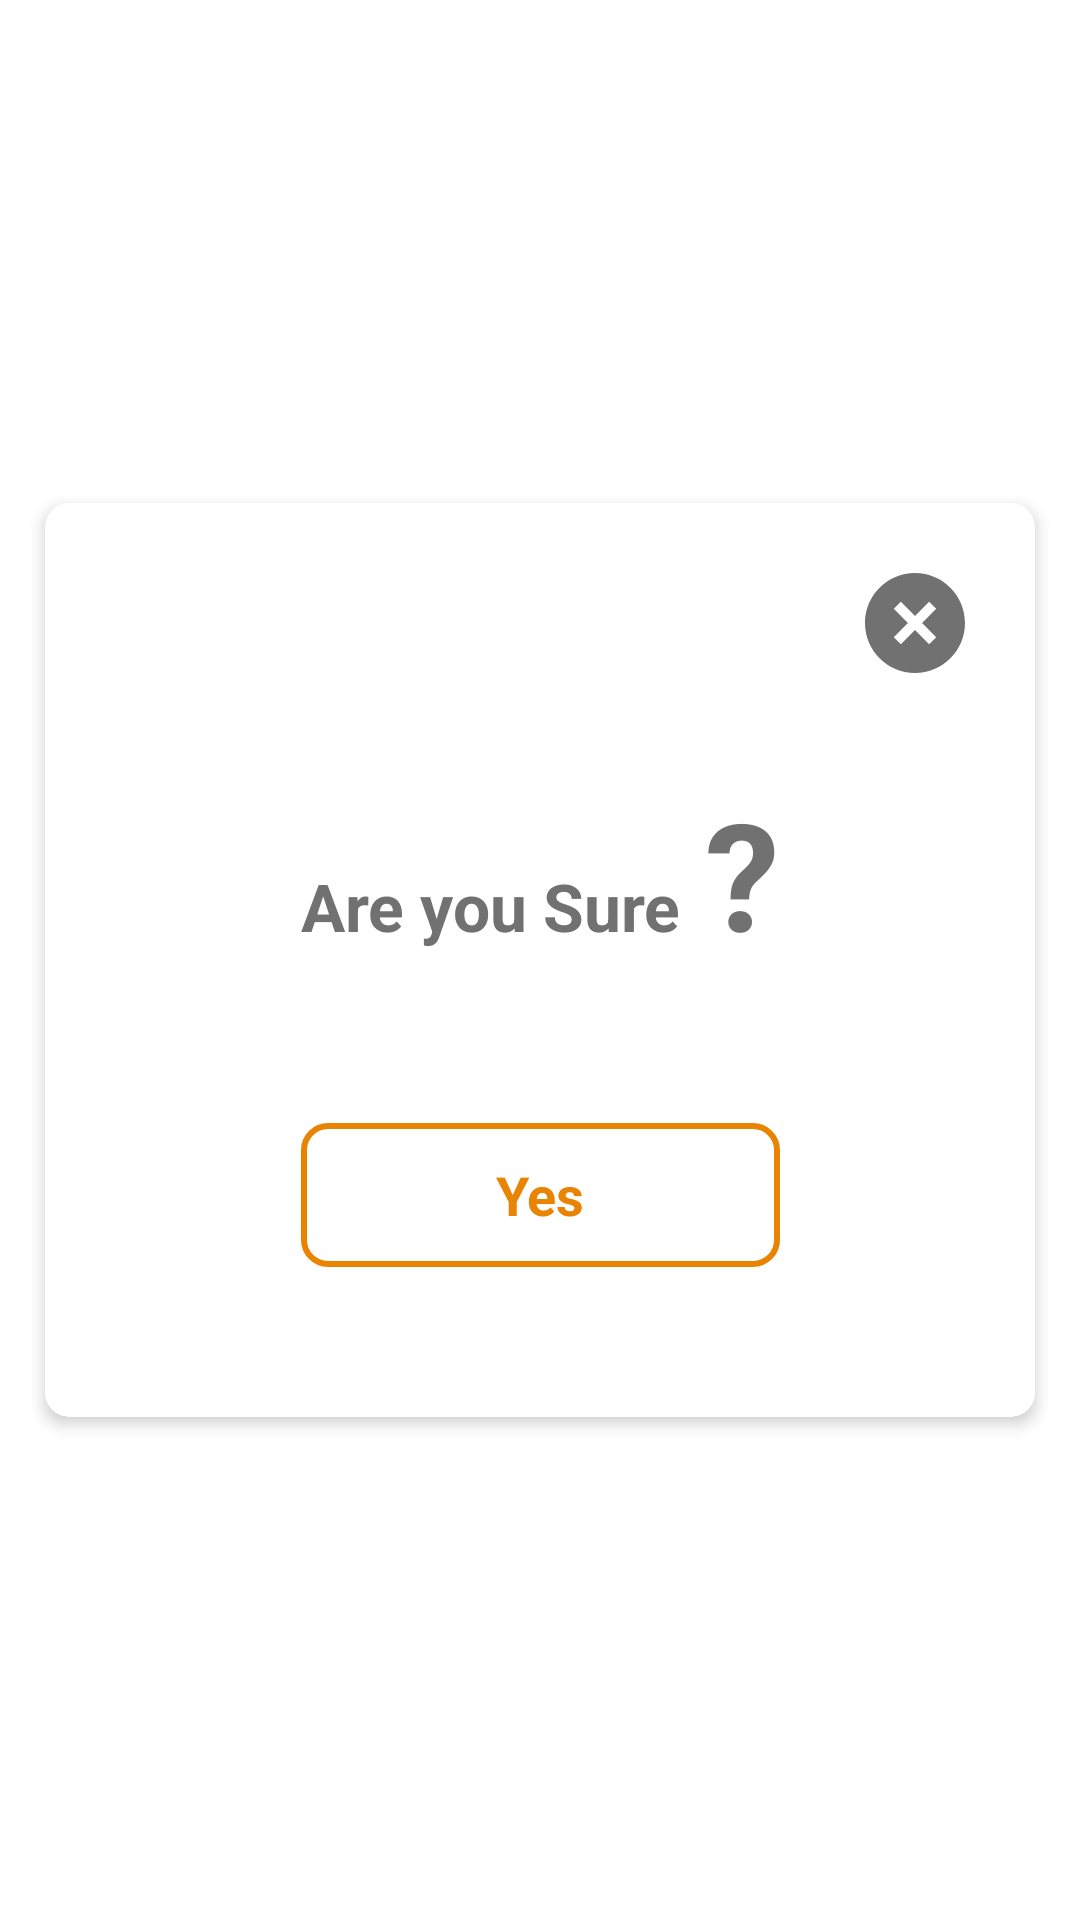

Screen size 1080px×1920px. Icon name, then its center in pixels as [x,y]:
close: [915,623]
